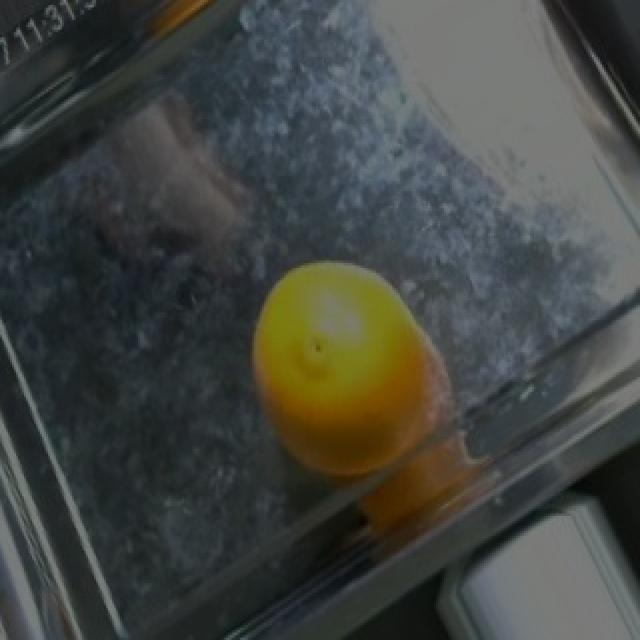Fruit: (228, 246, 474, 506)
